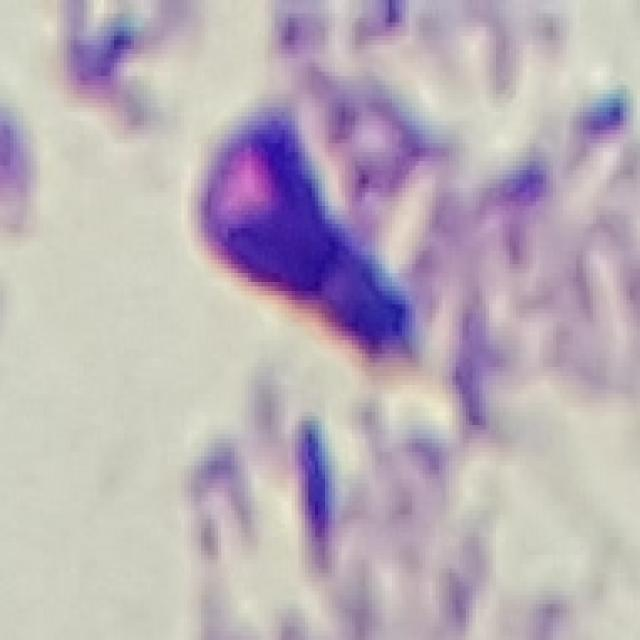non-sperm: (166, 111, 542, 439)
